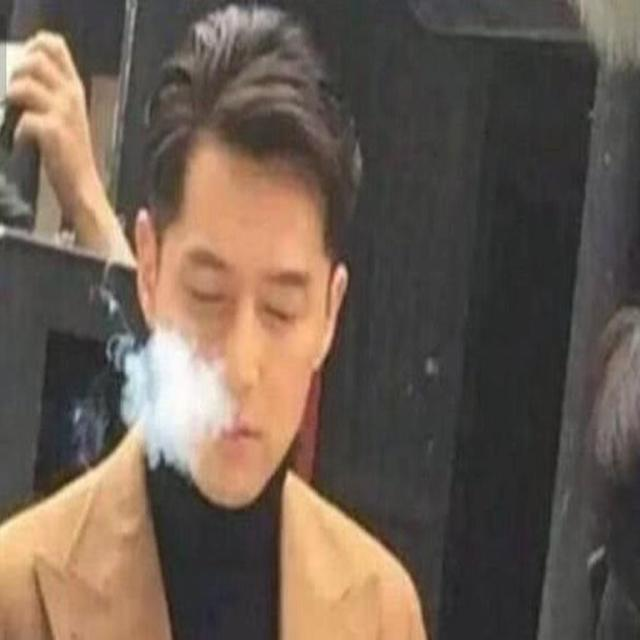smoking: (73, 72, 372, 544)
